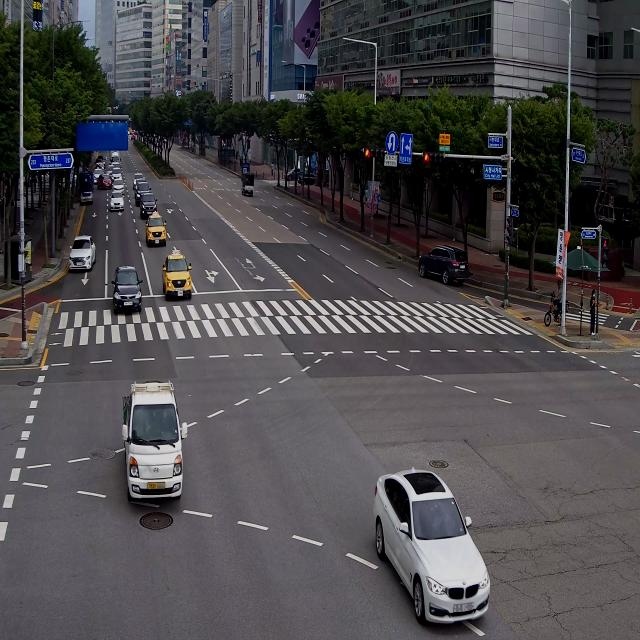Car: (370, 458, 500, 630), (413, 232, 467, 292), (104, 262, 148, 326), (54, 225, 103, 281), (159, 245, 200, 311), (134, 204, 170, 250), (110, 189, 131, 225), (140, 191, 159, 216), (296, 170, 319, 188), (281, 166, 305, 182), (135, 182, 151, 206), (98, 172, 112, 191), (112, 176, 125, 194), (111, 168, 124, 184), (133, 170, 144, 188), (92, 167, 104, 183), (135, 179, 146, 190), (95, 163, 105, 175), (106, 163, 114, 177), (114, 159, 125, 169), (99, 154, 107, 167), (95, 158, 102, 165)
Truck: (109, 370, 188, 505), (79, 166, 95, 206), (237, 170, 255, 202), (108, 148, 121, 164)
